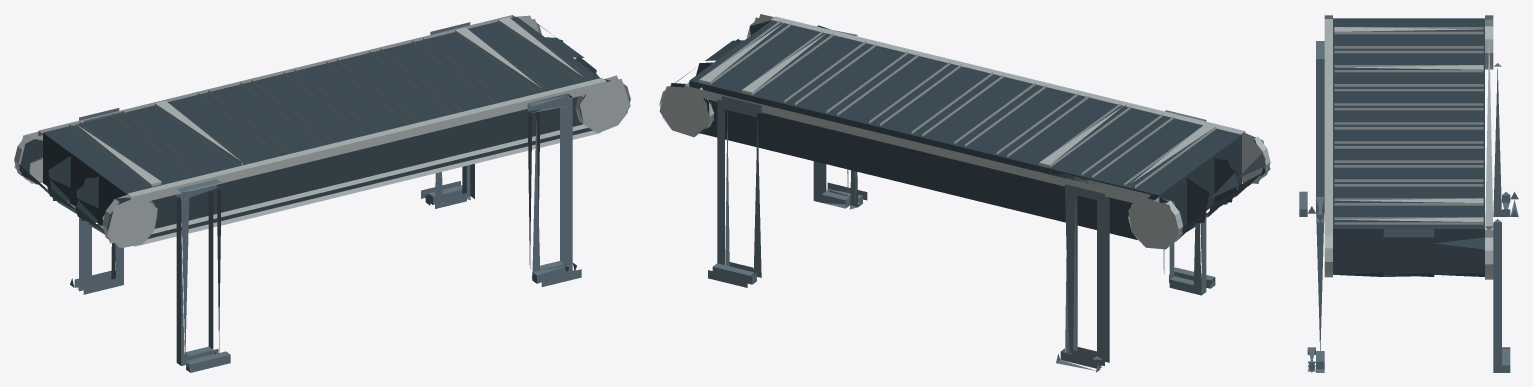
The model's file is conveyor.fbx.
3 views of the same model, side by side, from view 1: azimuth 30°, elevation 25°; view 2: azimuth 150°, elevation 25°; view 3: azimuth 270°, elevation 25° (orthographic). The views are drawn at different scales.
Parts seen in each view (by area): view 1: group1751849987; view 2: group1751849987; view 3: group1751849987.
Boxes of the visible parts, x1,y1,x2,y2 form: group1751849987: [14, 15, 630, 372]; group1751849987: [659, 14, 1270, 372]; group1751849987: [1299, 15, 1518, 372].
Bounding box in the file's own units: 1 × 0.327 × 0.3986.
